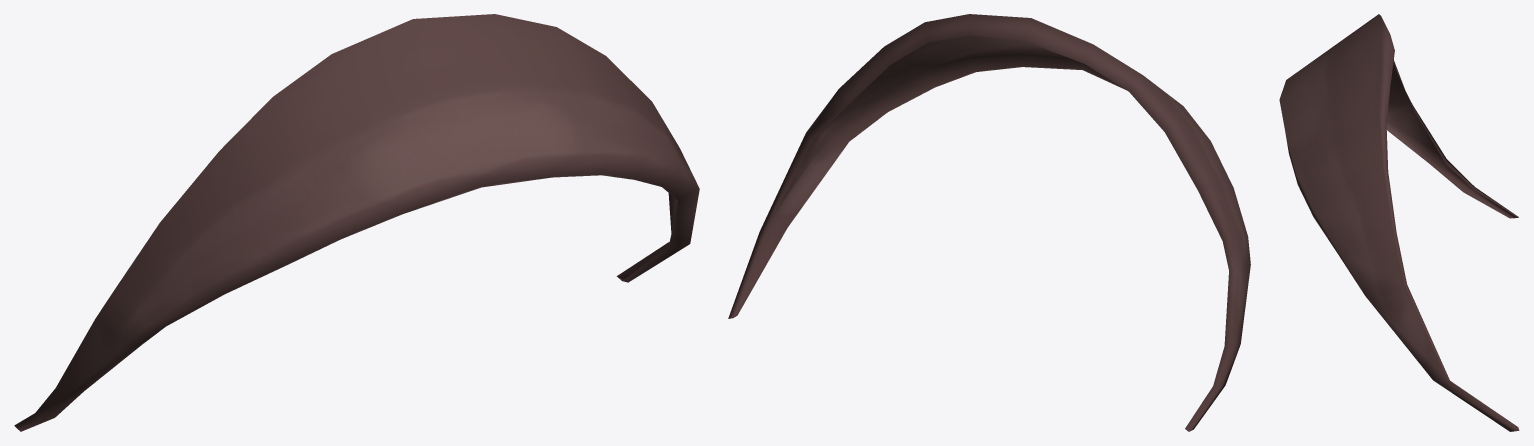
Rendered from Eri_hairband.fbx.
3 renders of one model, left to right at view 1: azimuth 30°, elevation 25°; view 2: azimuth 150°, elevation 25°; view 3: azimuth 270°, elevation 25°, orthographic. The views are drawn at different scales.
Parts seen in each view (by area): view 1: Eri_hairband; view 2: Eri_hairband; view 3: Eri_hairband.
Boxes of the visible parts, x1=… form: Eri_hairband: x1=14, y1=14, x2=699, y2=431; Eri_hairband: x1=728, y1=14, x2=1250, y2=431; Eri_hairband: x1=1279, y1=14, x2=1519, y2=431.
Size of the model in its own units: 1.19 by 0.7369 by 0.5498.
